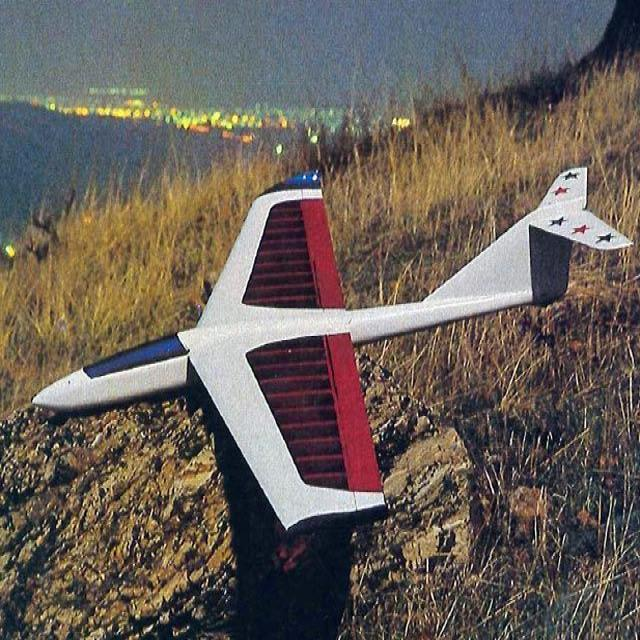iha: (25, 166, 627, 533)
